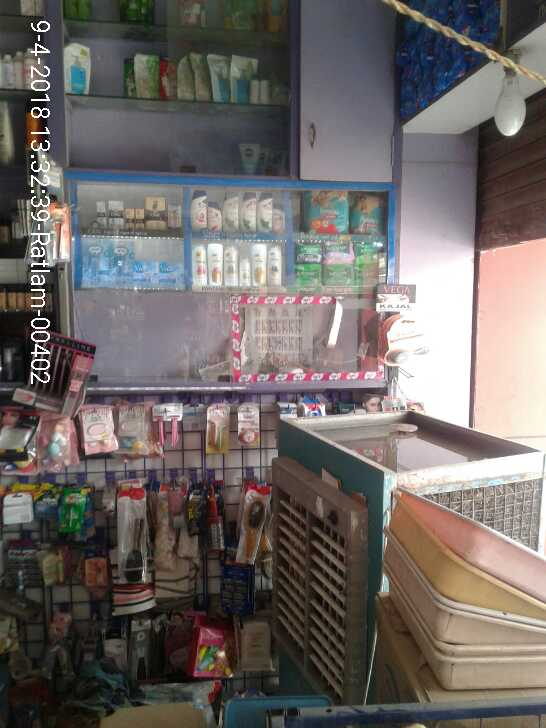gillete: (46, 203, 68, 263)
venus: (81, 239, 111, 289), (111, 240, 134, 289), (134, 260, 160, 290), (161, 263, 183, 291)
